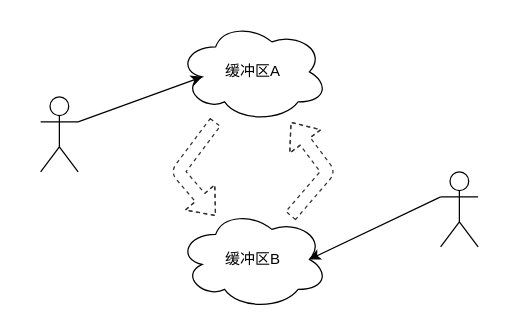
Some shapes in this 518 by 331 pixel diagram are drawn without their labels. Each missing label, with the box of its shape:
消费者线程: (439, 171, 478, 247)
生产者线程: (39, 96, 78, 172)
